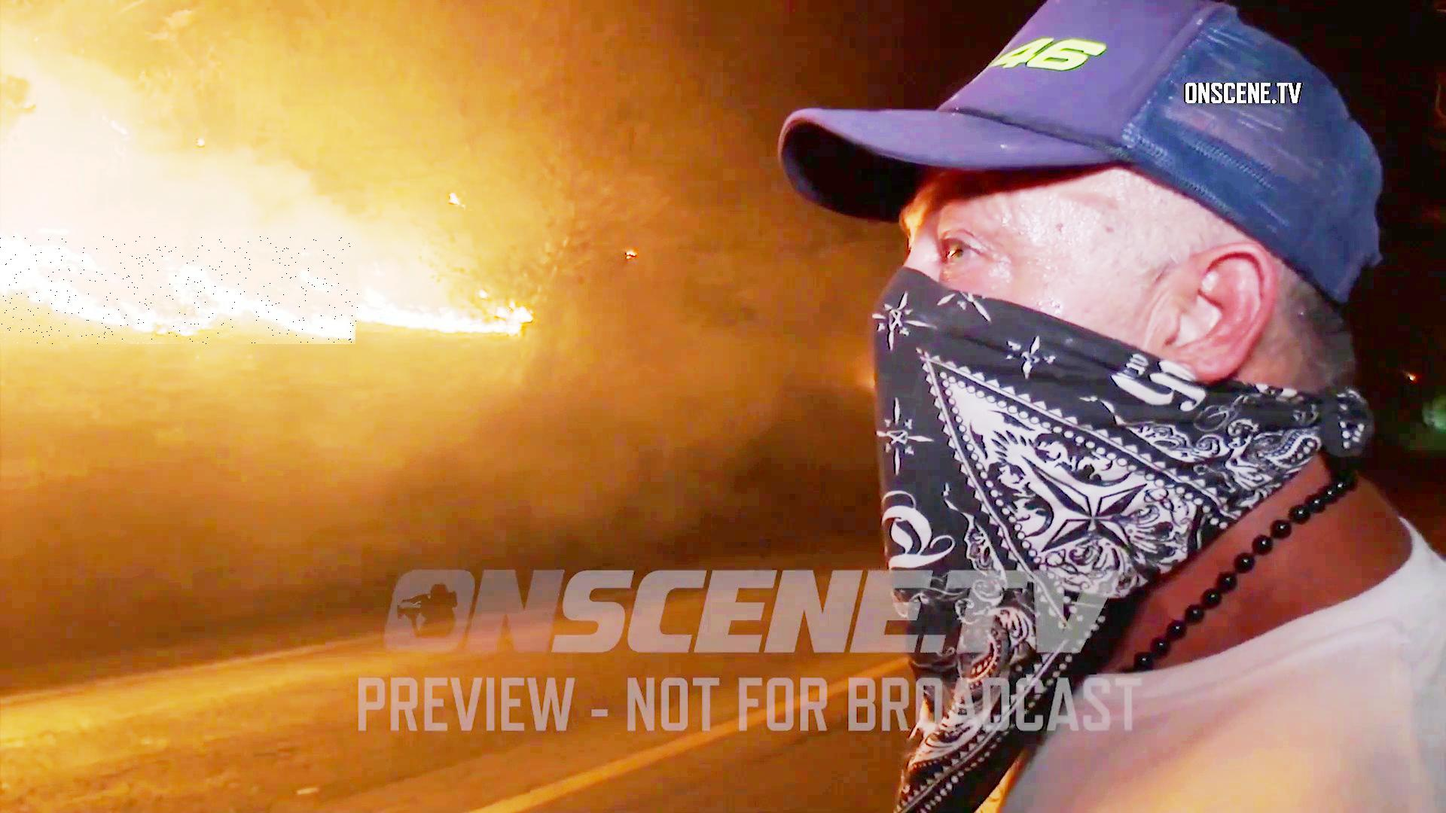fire: (0, 236, 358, 344)
